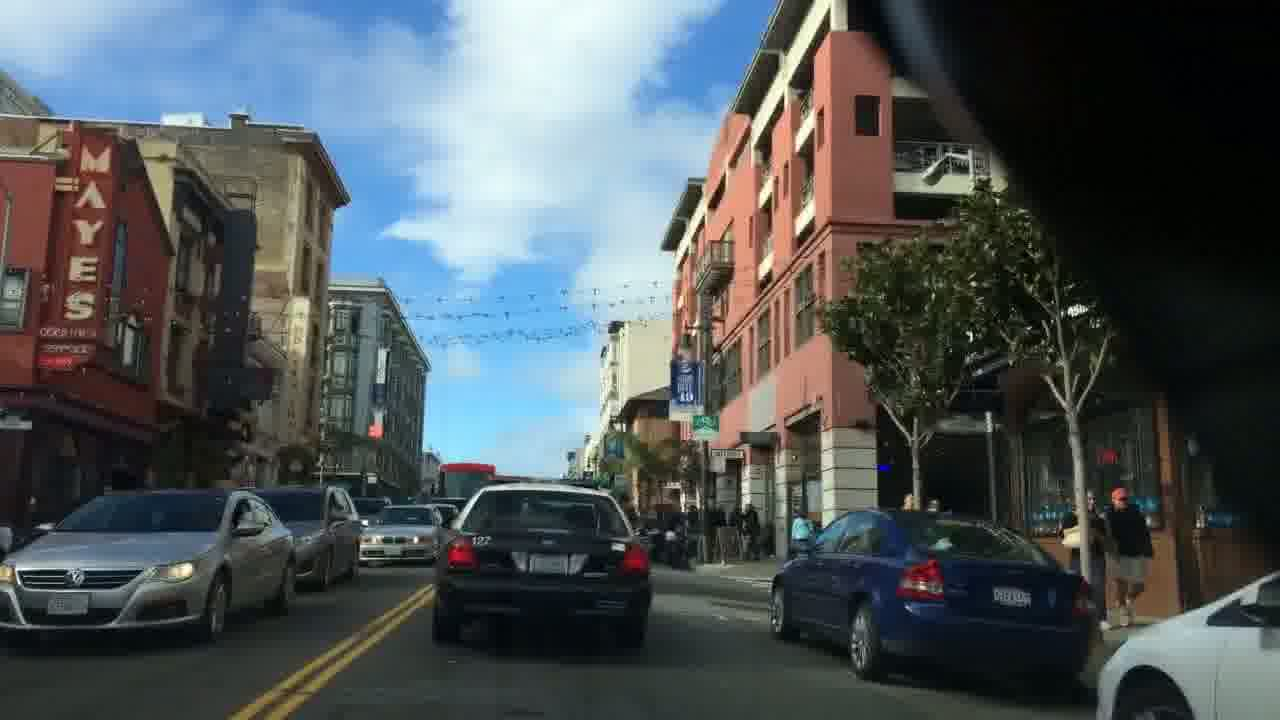car: (768, 506, 1094, 681), (0, 485, 297, 646), (431, 481, 650, 655), (248, 484, 361, 590), (357, 502, 443, 567)
pedestrian: (1102, 487, 1153, 627), (1058, 488, 1109, 620), (734, 504, 762, 563), (790, 508, 815, 549)
